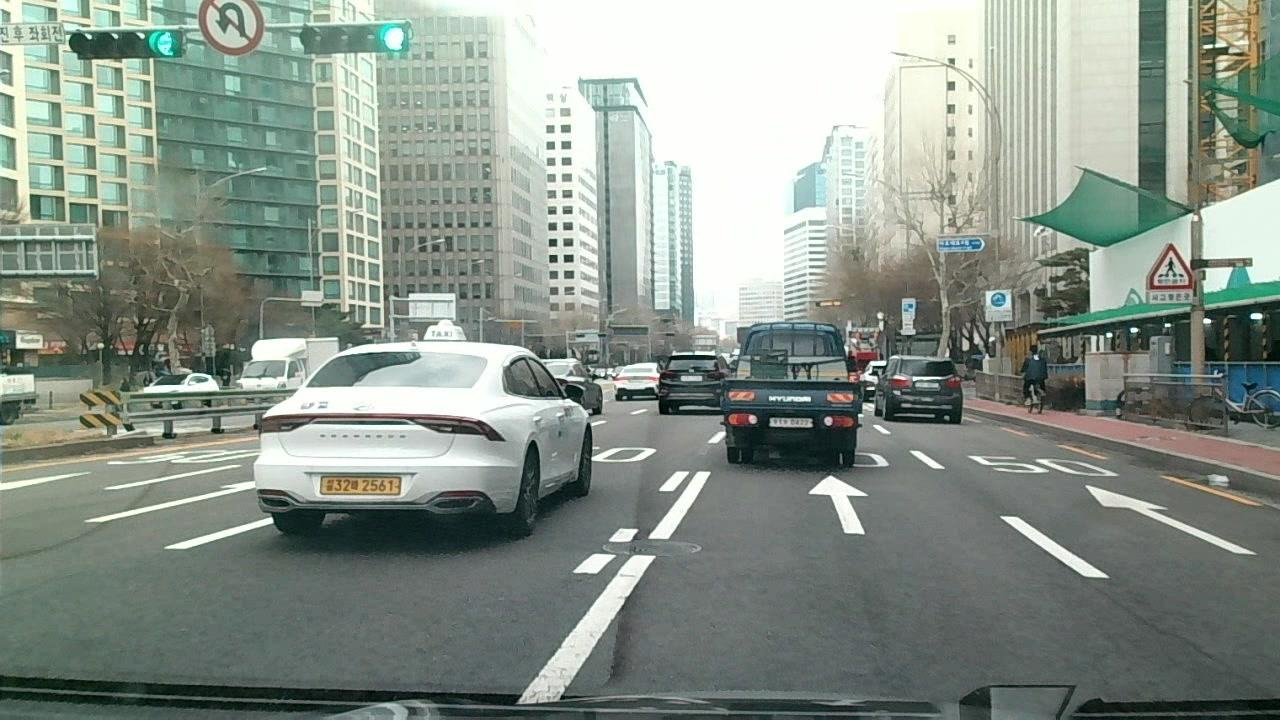vcrack: (588, 597, 635, 692)
